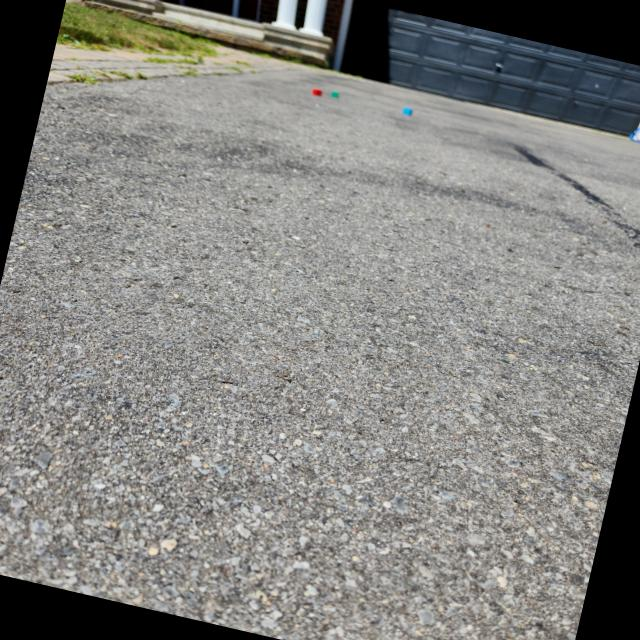bluecube: (402, 106, 412, 116)
green cube: (330, 90, 340, 98)
red cube: (312, 87, 322, 96)
